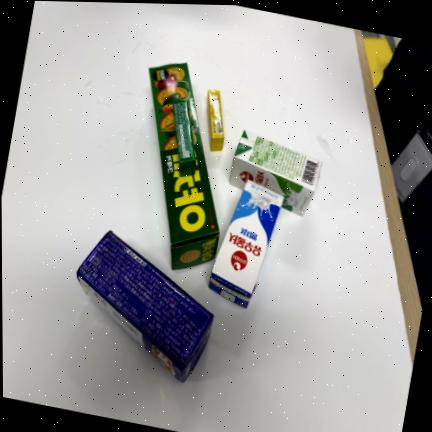cracker_ace: (77, 231, 213, 382)
cracker_vege: (149, 63, 219, 270)
gum_green: (173, 101, 196, 177)
gum_yellow: (208, 90, 224, 151)
milk_blue: (209, 181, 283, 308)
milk_green: (230, 131, 322, 216)
